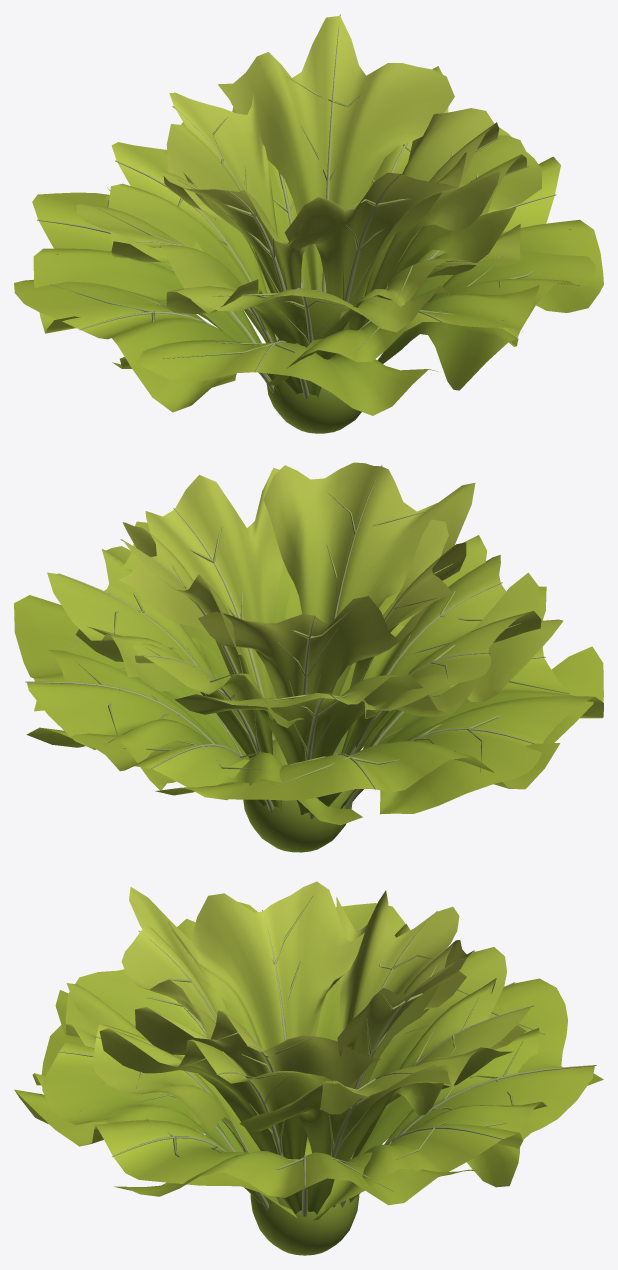
File: lettuce.glb
The picture shows the model from 3 angles, top to bottom: view 1: azimuth 30°, elevation 25°; view 2: azimuth 150°, elevation 25°; view 3: azimuth 270°, elevation 25°; orthographic projection. The views are drawn at different scales.
Visible parts, largest first — view 1: Plant; view 2: Plant; view 3: Plant.
Part boxes in pixels (x1,y1,x2,y2): Plant: (14,14,603,433); Plant: (14,462,603,852); Plant: (14,881,603,1255).
Size of the model in its own units: 0.4449 by 0.2758 by 0.4335.
